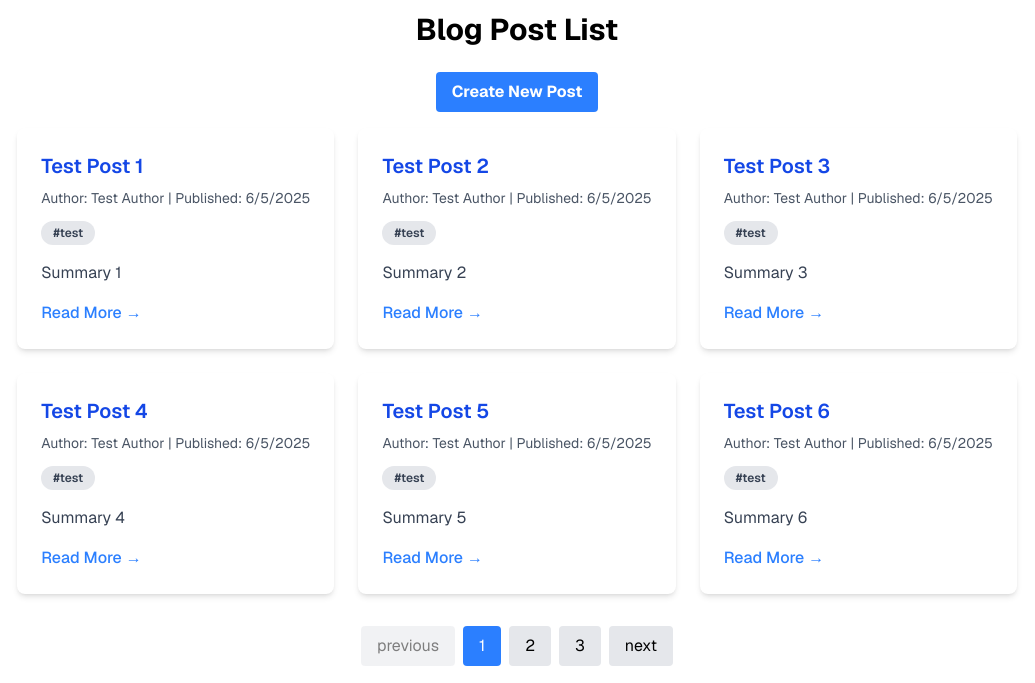
Test: BlogListPage › changes page content when clicking next/previous
The image size is (1035, 683).
Expected: the link "Test Post 1" is shown, left=41, top=153, right=144, bottom=179
Expected: the link "Test Post 6" is shown, left=724, top=398, right=830, bottom=424
Note: Click next page
Step 1. Click the button "next" → (641, 646), box left=609, top=626, right=673, bottom=666
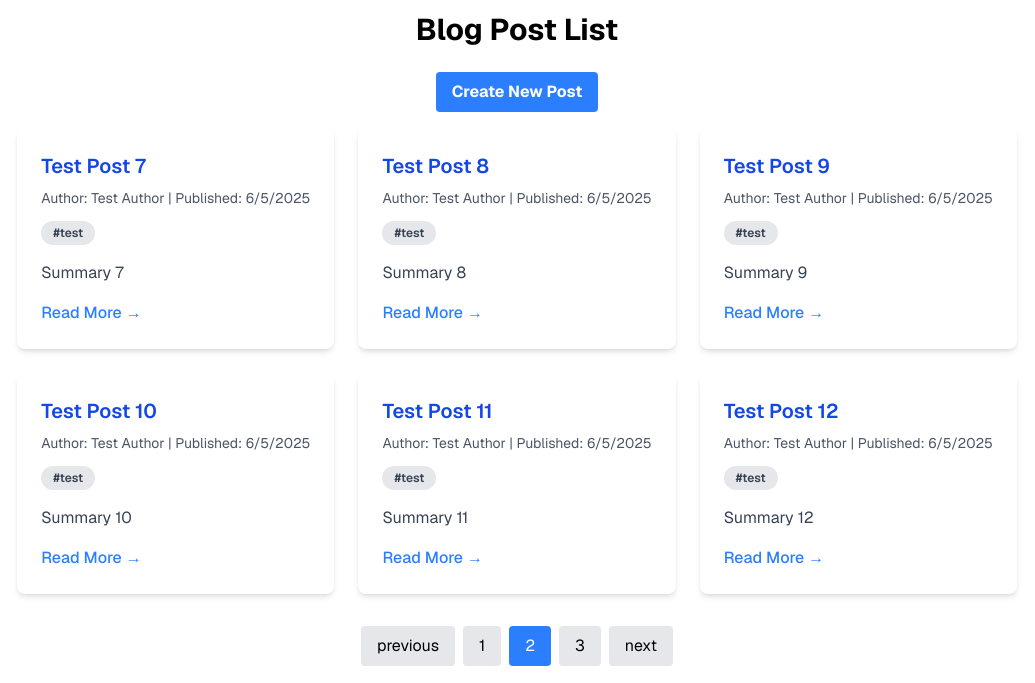
Now the link "Test Post 7" is shown, box left=41, top=153, right=146, bottom=179
Now the link "Test Post 12" is shown, box left=724, top=398, right=839, bottom=424
Note: Click previous page
Step 2. Click the button "previous" → (408, 646), box left=361, top=626, right=455, bottom=666
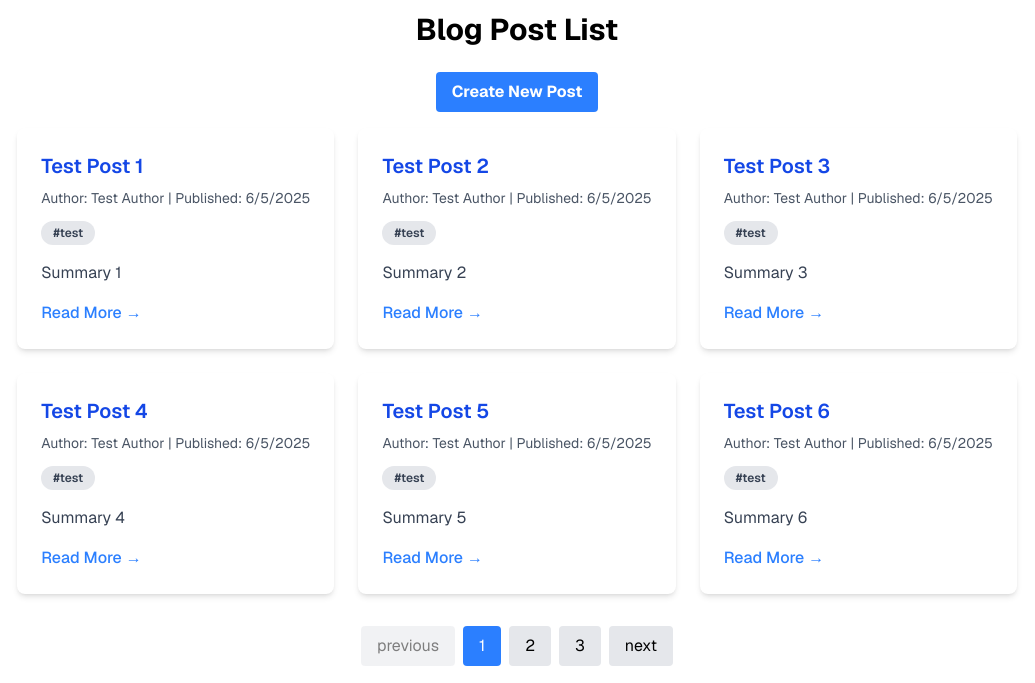
Now the link "Test Post 1" is shown, box left=41, top=153, right=144, bottom=179
Now the link "Test Post 6" is shown, box left=724, top=398, right=830, bottom=424
Now the link "Test Post 7" is gone
